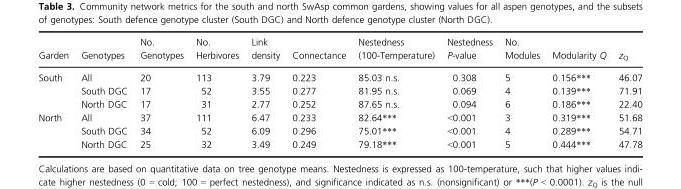table: (37, 37, 641, 149)
table column: (351, 37, 440, 149), (285, 37, 351, 149), (545, 37, 611, 149), (74, 37, 133, 149), (440, 37, 498, 149), (133, 37, 189, 149), (189, 37, 244, 149), (498, 37, 545, 149), (244, 37, 285, 149), (37, 37, 74, 149), (611, 37, 641, 149)
table column header: (37, 37, 641, 66)
table row: (37, 37, 641, 66), (37, 66, 641, 83), (37, 83, 641, 97), (37, 123, 641, 137), (37, 97, 641, 110), (37, 110, 641, 123), (37, 137, 641, 149)
table spanning cell: (37, 66, 74, 110), (37, 110, 74, 149)
